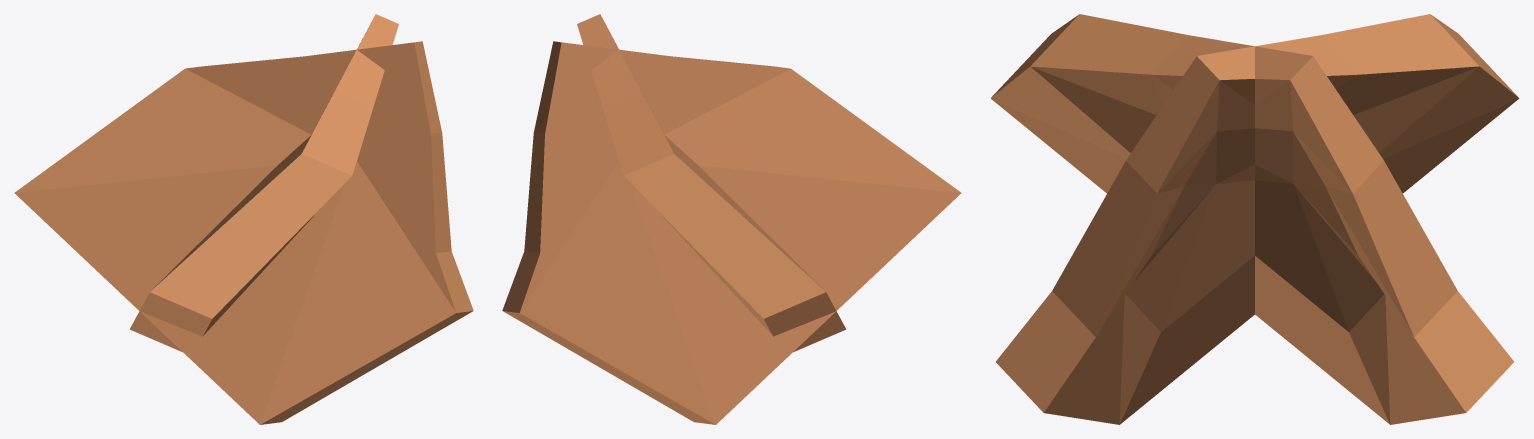
The model's file is pointed_small.glb.
3 renders of one model, left to right at view 1: azimuth 30°, elevation 25°; view 2: azimuth 150°, elevation 25°; view 3: azimuth 270°, elevation 25°, orthographic. The views are drawn at different scales.
Visible parts, largest first — view 1: Ear_R.001, Ear_L.001; view 2: Ear_L.001, Ear_R.001; view 3: Ear_L.001, Ear_R.001.
Boxes of the visible parts, left/top/right/bottom form: Ear_R.001: left=14, top=41, right=473, bottom=424; Ear_L.001: left=129, top=14, right=398, bottom=352; Ear_L.001: left=502, top=41, right=961, bottom=424; Ear_R.001: left=577, top=14, right=846, bottom=352; Ear_L.001: left=990, top=14, right=1513, bottom=424; Ear_R.001: left=996, top=14, right=1519, bottom=424.
Bounding box in the file's own units: 0.0447 × 0.0419 × 0.0414.
Materials: 1 (1 with a texture image).
